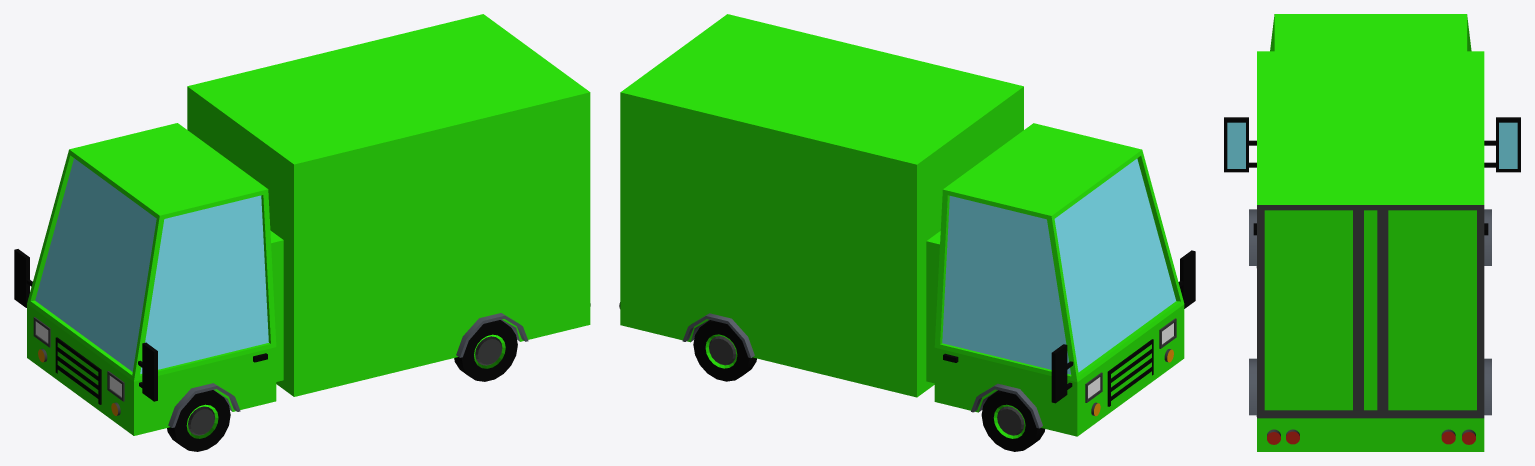
Rendered from car6C.FBX.
3 views of the same model, side by side, from view 1: azimuth 30°, elevation 25°; view 2: azimuth 150°, elevation 25°; view 3: azimuth 270°, elevation 25° (orthographic). The views are drawn at different scales.
Visible parts, largest first — view 1: car6C; view 2: car6C; view 3: car6C.
Part boxes in pixels (x1,y1,x2,y2): car6C: (14, 14, 590, 451); car6C: (619, 14, 1195, 451); car6C: (1224, 14, 1520, 451).
Bounding box in the file's own units: 12.53 × 6.81 × 6.53.
